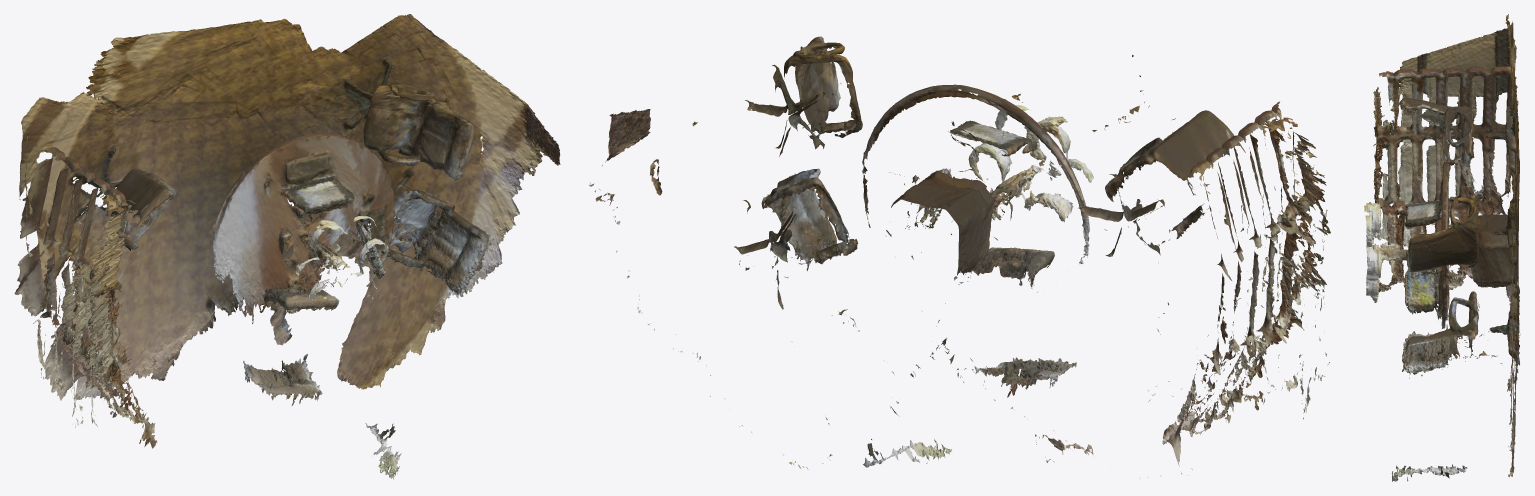
3 views of the same model, side by side, from view 1: azimuth 30°, elevation 25°; view 2: azimuth 150°, elevation 25°; view 3: azimuth 270°, elevation 25° (orthographic). The views are drawn at different scales.
Parts seen in each view (by area): view 1: world; view 2: world; view 3: world.
Part boxes in pixels (<box>): world: <box>14,14,560,479</box>; world: <box>589,36,1330,477</box>; world: <box>1364,14,1520,481</box>.
Bounding box in the file's own units: 5.16 × 4.13 × 1.55.
